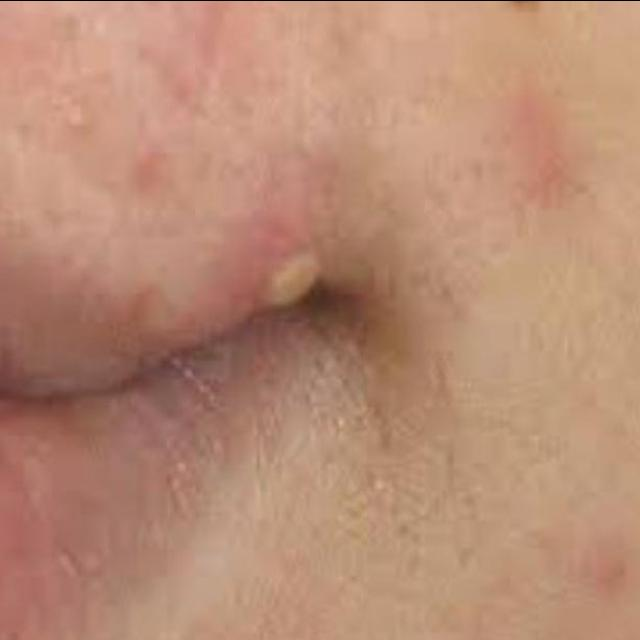pustule: (234, 238, 333, 330)
